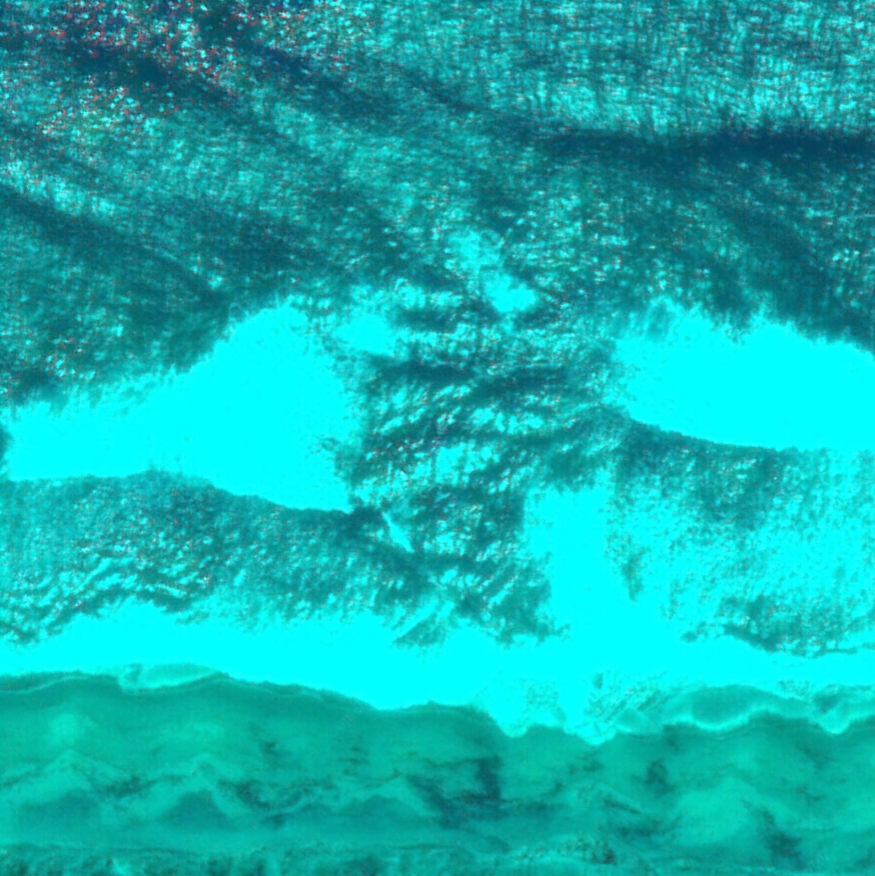rip_current: (275, 213, 621, 636)
